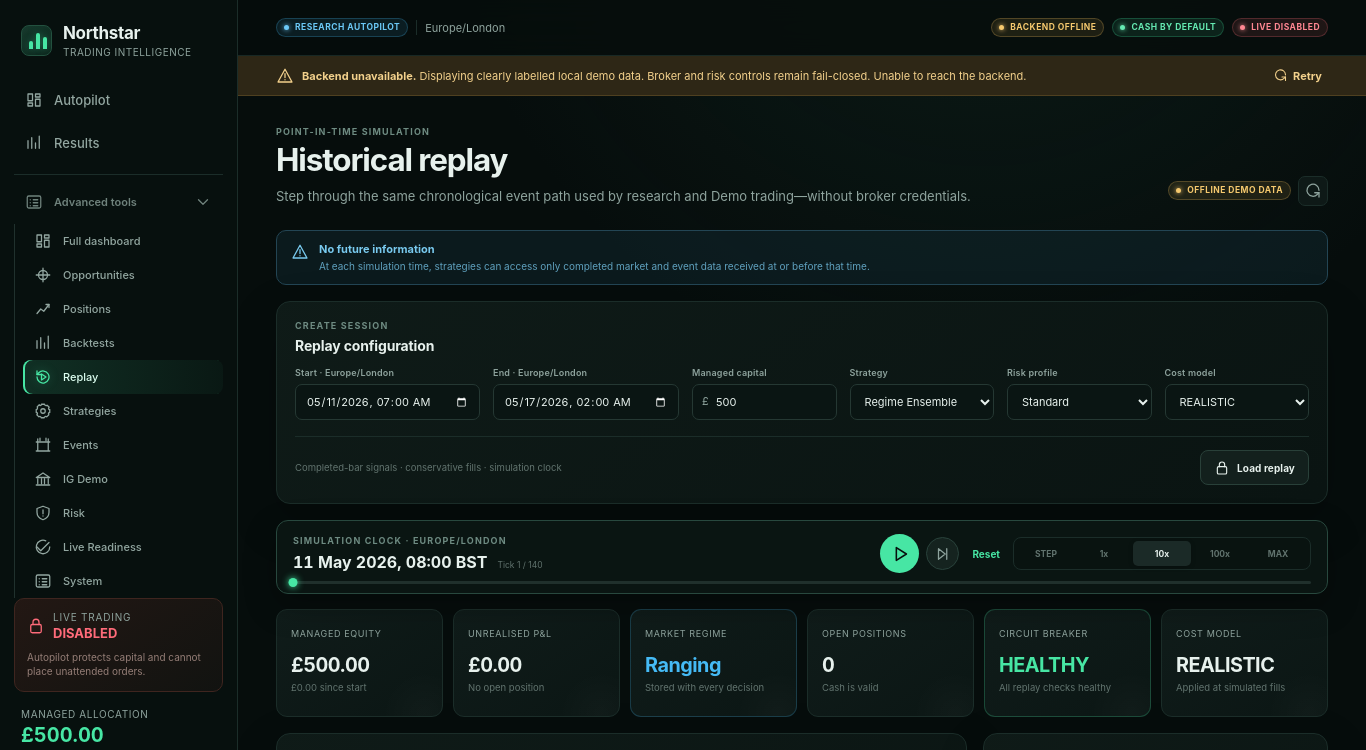
trading dashboard › advances the historical replay one chronological tick
Expected: the text "Tick 1 / 140" is shown, [497, 560, 542, 570]
Click the button named "Step forward" at (943, 554), box [926, 537, 959, 570]
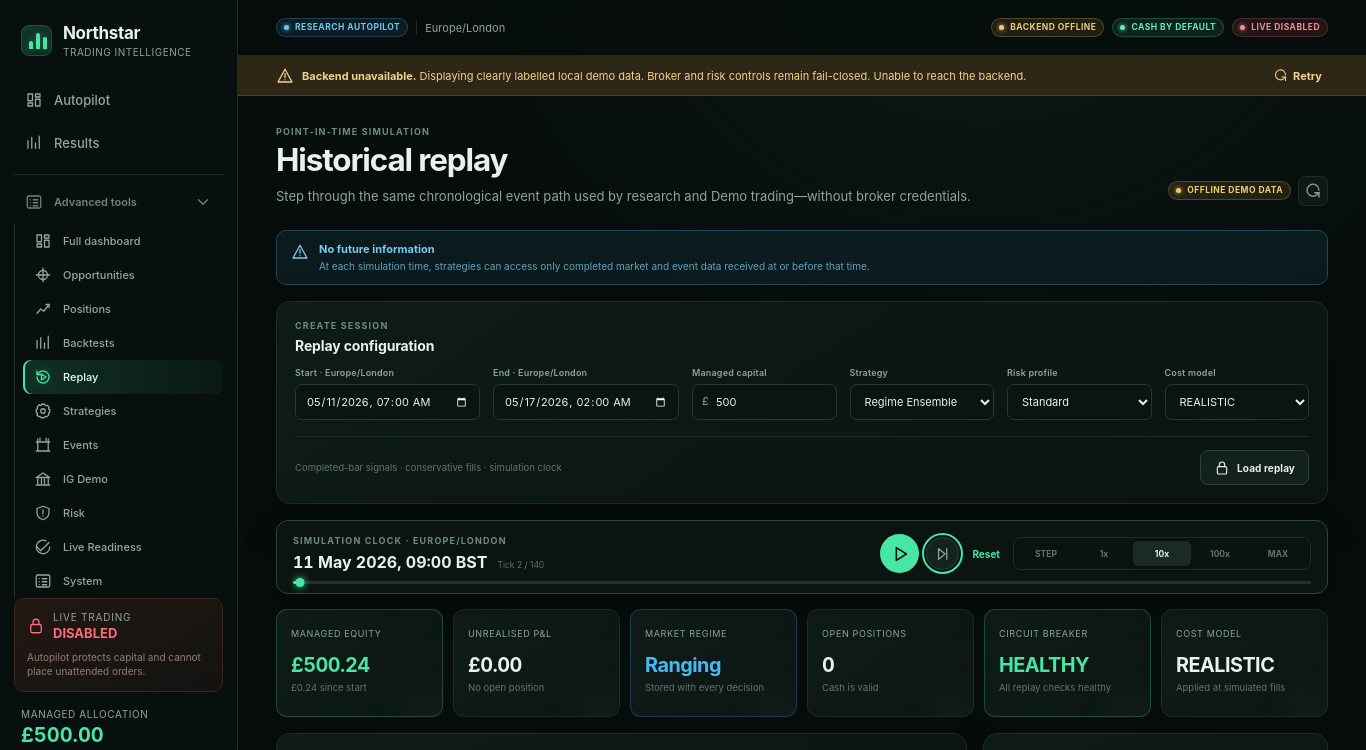
Expected: the text "Tick 2 / 140" is shown, [497, 560, 544, 570]
